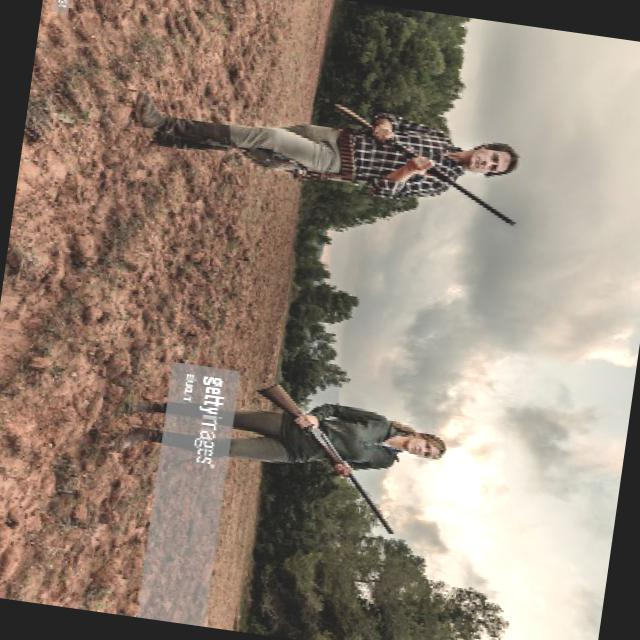long weapon: (314, 88, 540, 238), (242, 376, 420, 536)
